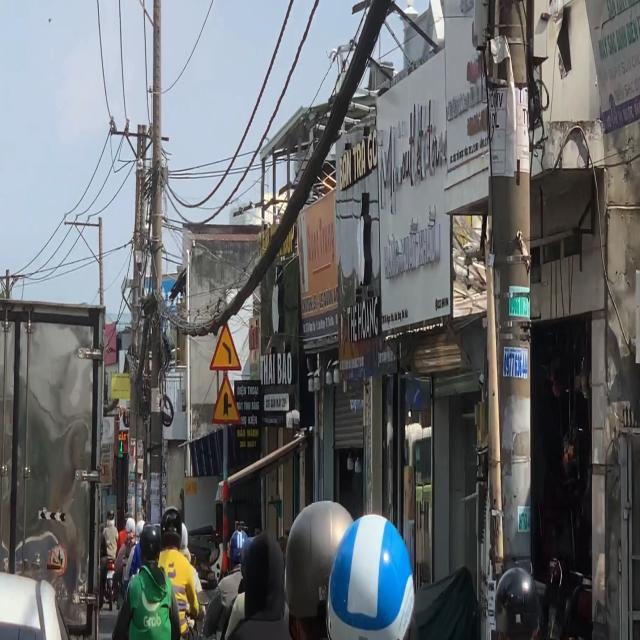Giao voi duong khong uu tien: (211, 374, 242, 425)
Nguy hiem: (209, 320, 242, 372)
